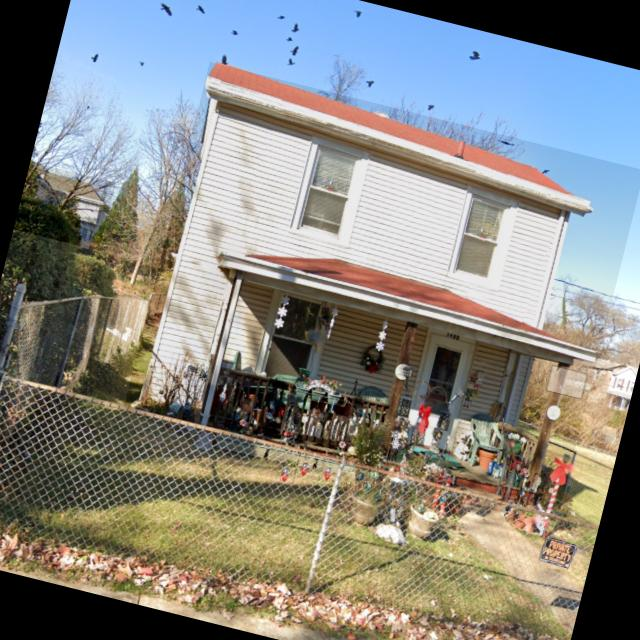House: (123, 61, 640, 514), (13, 162, 115, 250), (600, 362, 638, 412)
